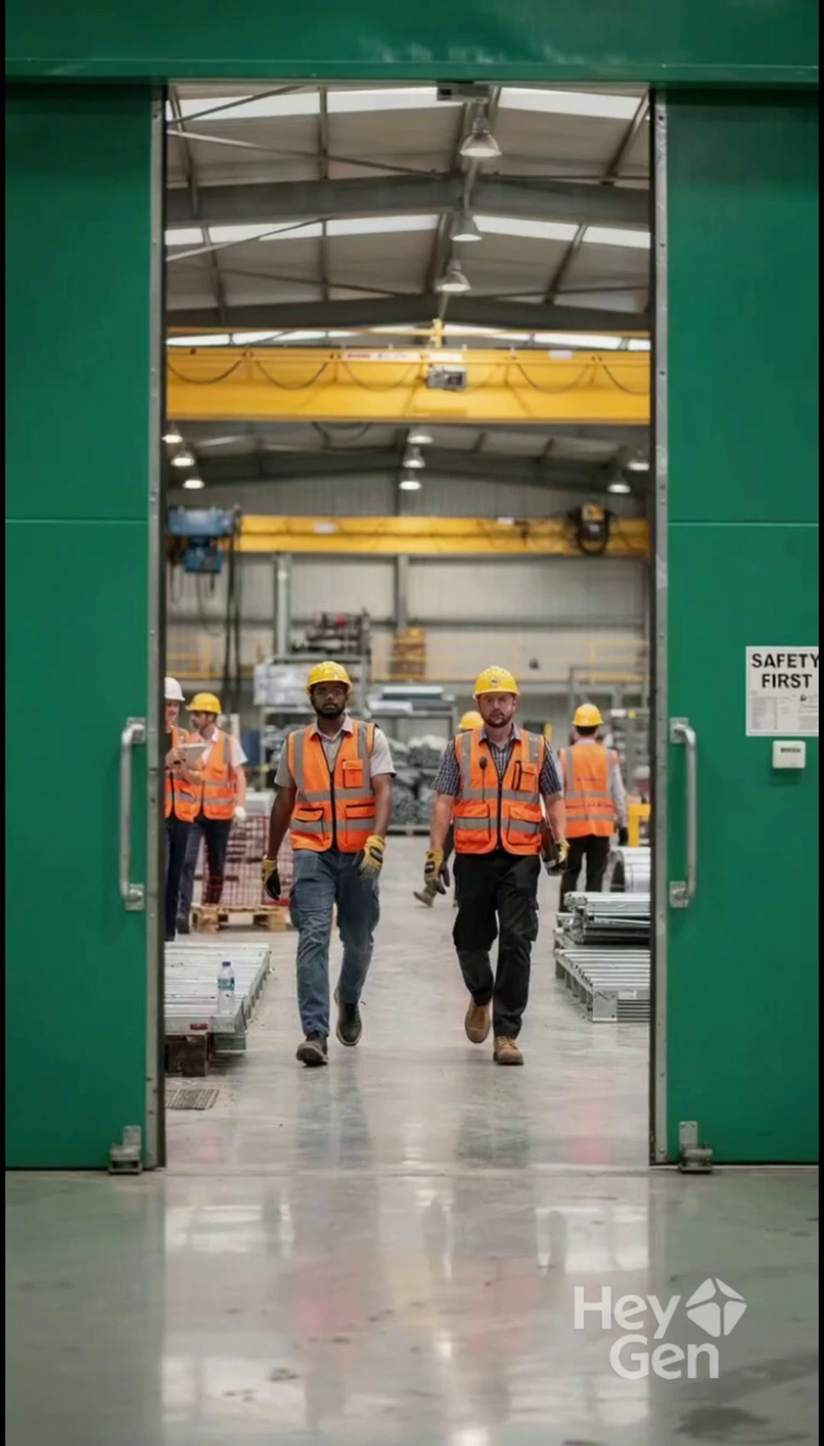Amir: (471, 675, 530, 737)
Sami: (299, 668, 361, 730)
porte_verte: (7, 0, 824, 1175)
temp: (262, 645, 399, 1084), (447, 651, 563, 1077)
